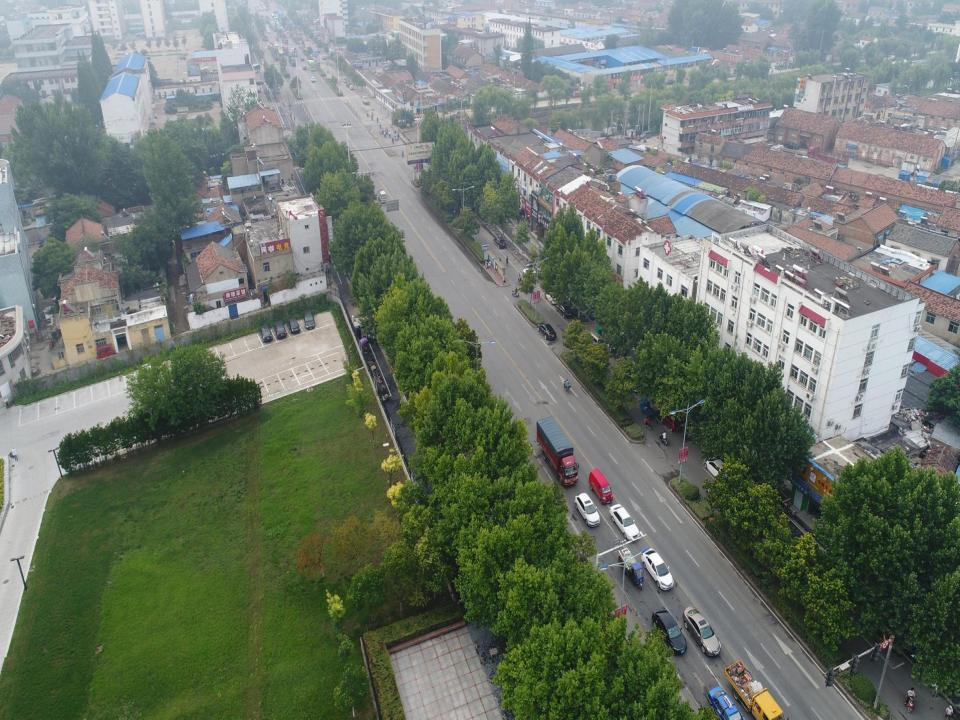bus: (248, 62, 262, 74), (307, 58, 316, 72), (277, 48, 285, 60)
car: (682, 606, 722, 658), (651, 606, 687, 654), (640, 546, 675, 593), (706, 686, 746, 720), (608, 503, 642, 542), (574, 490, 600, 528), (866, 615, 894, 648), (703, 455, 730, 482), (659, 408, 681, 434), (623, 369, 644, 396), (534, 321, 557, 342), (556, 302, 574, 319), (522, 266, 538, 284), (302, 309, 316, 329), (286, 316, 301, 334), (258, 323, 272, 341), (545, 289, 560, 305), (274, 320, 286, 337), (494, 235, 506, 249), (461, 200, 472, 212), (255, 79, 264, 85), (276, 84, 281, 94), (256, 86, 261, 94), (348, 84, 354, 90), (346, 81, 352, 87), (342, 76, 347, 83), (310, 75, 315, 82), (300, 55, 305, 61), (303, 64, 307, 70), (280, 43, 284, 48), (275, 42, 278, 47)
truck: (535, 415, 580, 486), (376, 188, 388, 203), (289, 54, 296, 66), (361, 95, 369, 104), (282, 44, 289, 54)
van: (588, 468, 613, 506), (586, 329, 604, 354), (639, 129, 652, 139), (180, 54, 186, 61)
